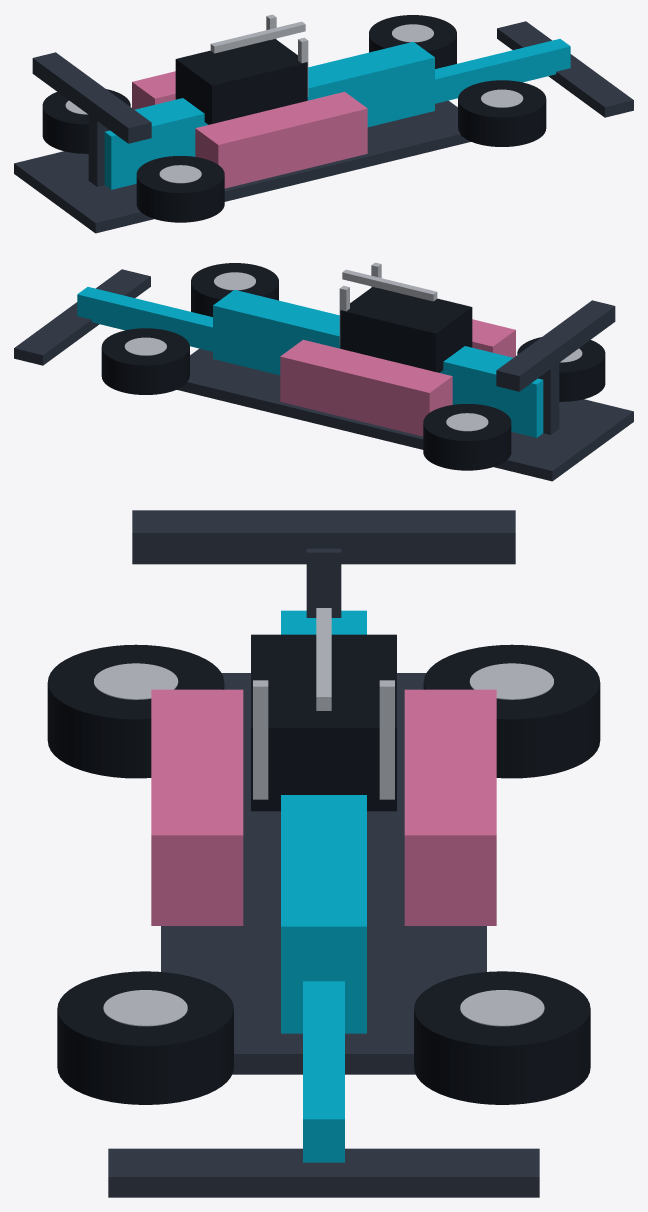
Rendered from rs-formula.glb.
The picture shows the model from 3 angles, top to bottom: view 1: azimuth 30°, elevation 25°; view 2: azimuth 150°, elevation 25°; view 3: azimuth 270°, elevation 25°; orthographic projection. The views are drawn at different scales.
Visible parts, largest first — view 1: body, floor, sidepod_l, cockpit, wheel_2, wheel_0, nose, rear_wing, front_wing, wheel_1, wheel_3, sidepod_r (+6 smaller); view 2: body, floor, sidepod_r, cockpit, wheel_3, wheel_1, nose, rear_wing, front_wing, wheel_0, wheel_2, sidepod_l (+6 smaller); view 3: floor, sidepod_l, sidepod_r, front_wing, rear_wing, body, cockpit, wheel_0, wheel_1, wheel_2, wheel_3, nose (+8 smaller).
Part boxes in pixels (bbox=[...]): body: bbox=[104, 41, 434, 189]; floor: bbox=[14, 100, 470, 233]; sidepod_l: bbox=[195, 91, 367, 188]; cockpit: bbox=[175, 39, 307, 124]; wheel_2: bbox=[136, 156, 224, 222]; wheel_0: bbox=[458, 80, 546, 146]; nose: bbox=[435, 39, 570, 103]; rear_wing: bbox=[32, 52, 151, 143]; front_wing: bbox=[497, 21, 633, 117]; wheel_1: bbox=[369, 15, 456, 68]; wheel_3: bbox=[42, 89, 130, 153]; sidepod_r: bbox=[132, 71, 175, 109]; body: bbox=[213, 289, 543, 437]; floor: bbox=[177, 348, 633, 481]; sidepod_r: bbox=[280, 339, 452, 436]; cockpit: bbox=[340, 287, 472, 372]; wheel_3: bbox=[423, 404, 511, 470]; wheel_1: bbox=[101, 328, 189, 394]; nose: bbox=[77, 287, 212, 351]; rear_wing: bbox=[496, 300, 615, 391]; front_wing: bbox=[14, 269, 150, 365]; wheel_0: bbox=[191, 263, 278, 316]; wheel_2: bbox=[517, 337, 605, 401]; sidepod_l: bbox=[472, 319, 515, 357]; floor: bbox=[161, 673, 486, 1074]; sidepod_l: bbox=[151, 689, 243, 925]; sidepod_r: bbox=[404, 689, 496, 925]; front_wing: bbox=[108, 1148, 539, 1197]; rear_wing: bbox=[132, 510, 515, 564]; body: bbox=[281, 610, 366, 1033]; cockpit: bbox=[251, 634, 396, 811]; wheel_0: bbox=[57, 971, 233, 1104]; wheel_1: bbox=[414, 971, 590, 1104]; wheel_2: bbox=[47, 644, 224, 778]; wheel_3: bbox=[423, 644, 600, 778]; nose: bbox=[303, 981, 344, 1162].
Bounding box in the file's own units: 6.33 × 1.38 × 2.88.
